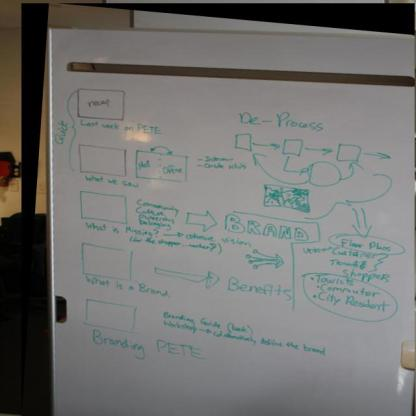Handwritten text: (83, 324, 206, 371), (217, 209, 313, 248), (78, 271, 180, 301), (220, 271, 297, 304), (72, 115, 167, 140), (313, 290, 394, 316), (131, 197, 180, 231), (78, 170, 147, 193), (275, 106, 330, 134), (309, 270, 359, 292), (336, 236, 395, 253), (203, 155, 249, 174), (85, 94, 117, 111), (236, 108, 261, 129), (218, 235, 254, 249), (158, 163, 185, 178), (137, 155, 152, 174)
